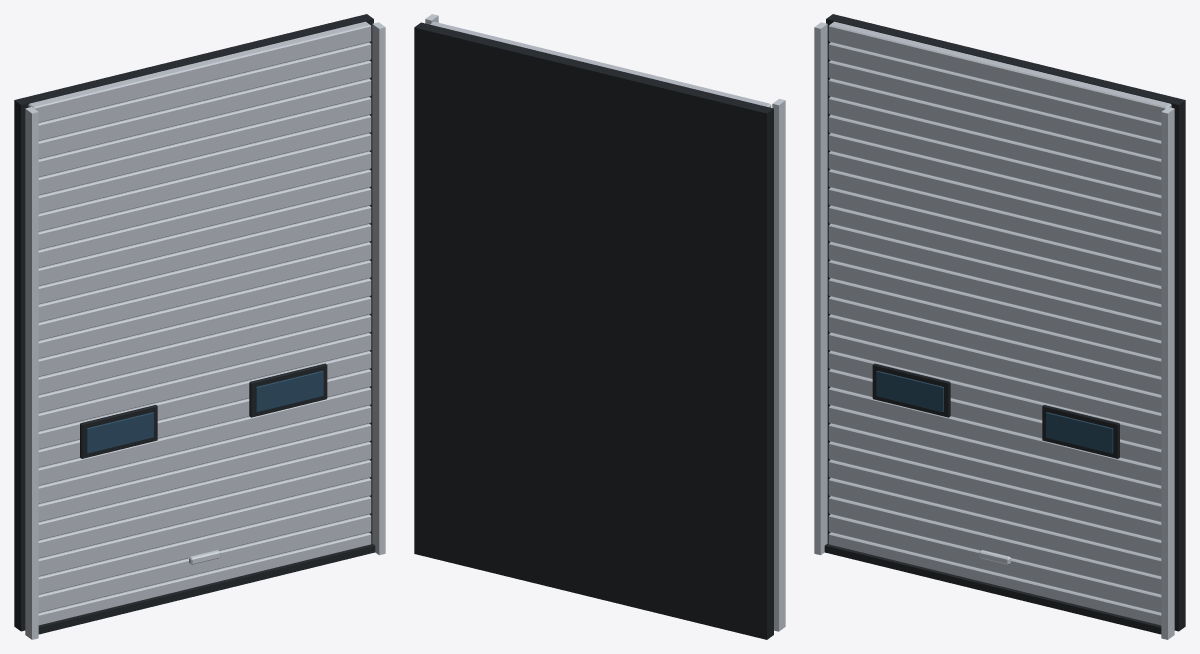
File: SM_MPR3_RollerDock.fbx
The picture shows the model from 3 angles, left to right: view 1: azimuth 30°, elevation 25°; view 2: azimuth 150°, elevation 25°; view 3: azimuth 330°, elevation 25°; orthographic projection.
Visible parts, largest first — view 1: SM_MPR3_RollerDock; view 2: SM_MPR3_RollerDock; view 3: SM_MPR3_RollerDock.
Part boxes in pixels (<box>): SM_MPR3_RollerDock: <box>14,14,385,639</box>; SM_MPR3_RollerDock: <box>414,14,785,639</box>; SM_MPR3_RollerDock: <box>814,14,1185,639</box>.
Bounding box in the file's own units: 295 × 26.5 × 420.
